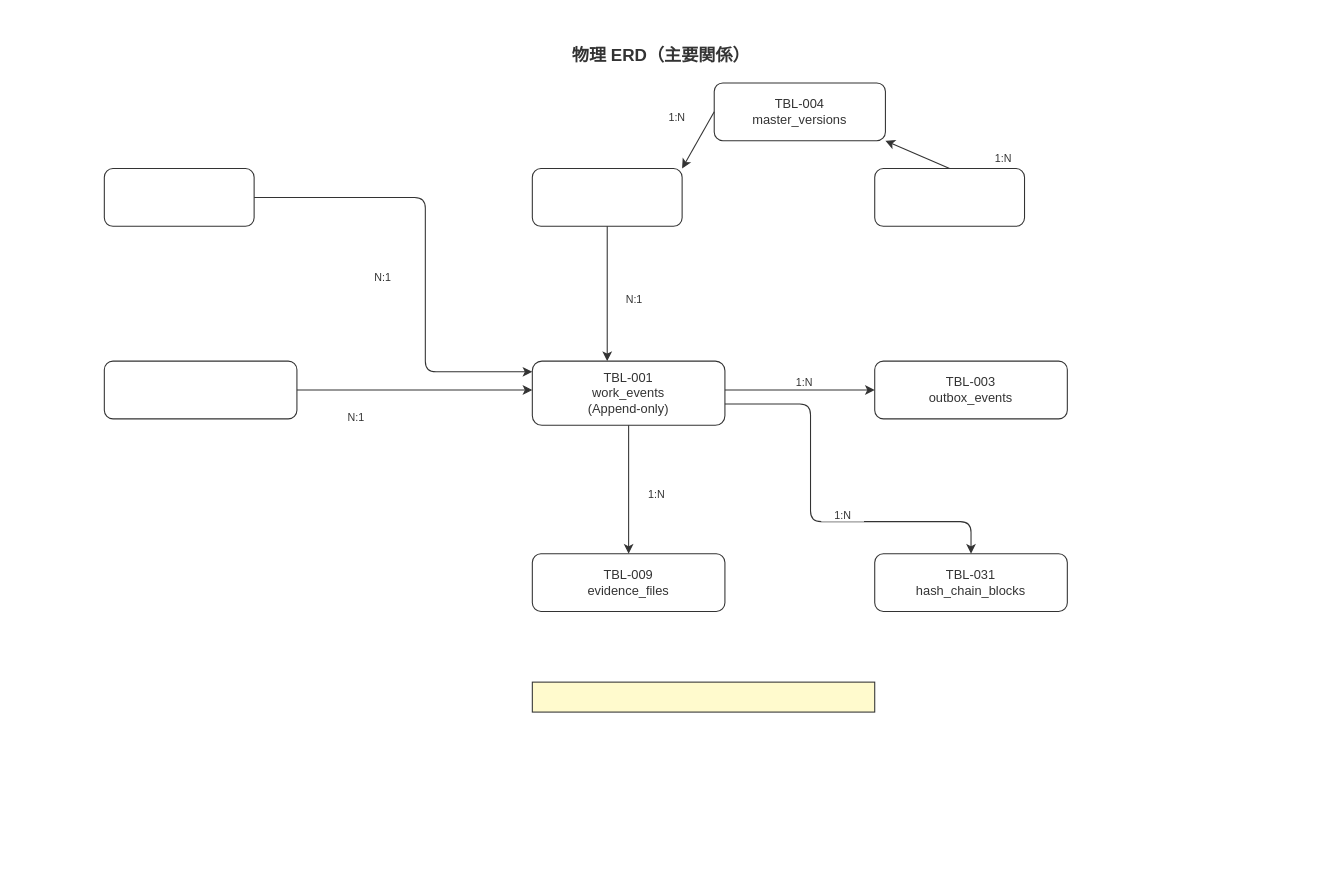
The diagram is 1320 pixels wide and 892 high, and some of its shapes have lost their labels. The centre of each missing label's shape, as x and y in pixels:
"TBL-005 work_executions" goes at (200,389).
"TBL-007 sops" goes at (949,196).
"TBL-008 steps" goes at (606,196).
"TBL-016 users" goes at (178,196).
"★ TBL-001 work_events は Append-only" goes at (703,696).
